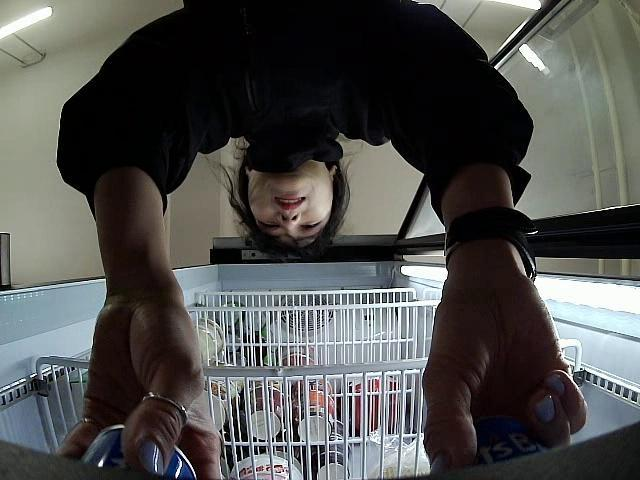15_letsbe: (430, 414, 549, 480), (75, 423, 196, 480)
